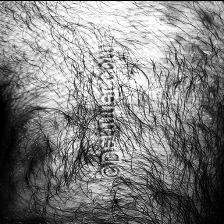Toxin: (159, 32, 224, 94), (22, 79, 60, 156), (78, 116, 102, 163), (79, 214, 128, 224), (20, 214, 50, 224)
